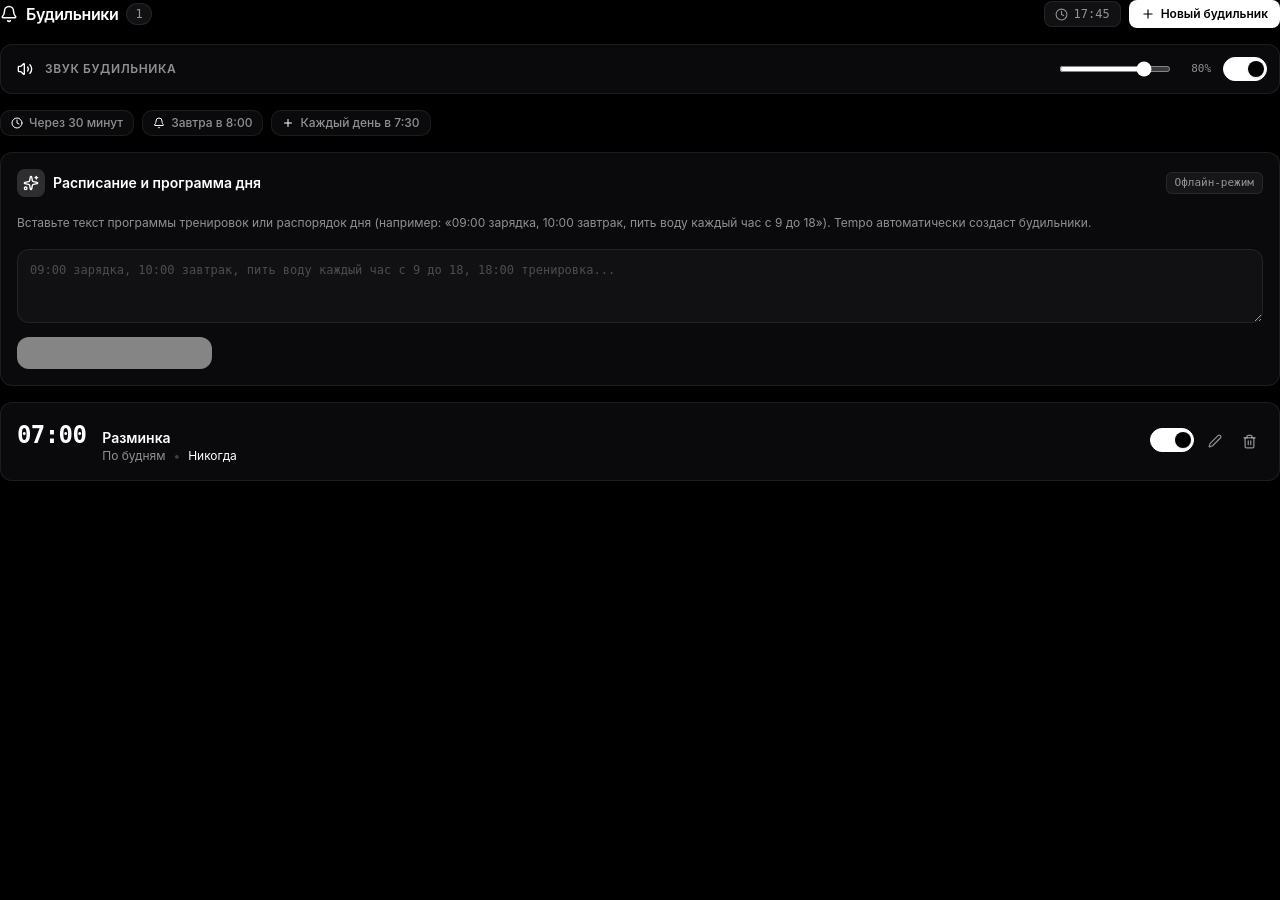
Test: an alarm that could never ring › cancels a description edit on Escape instead of saving it
Click the button named "Редактировать Разминка" at (1215, 441), box [1202,428,1228,454]
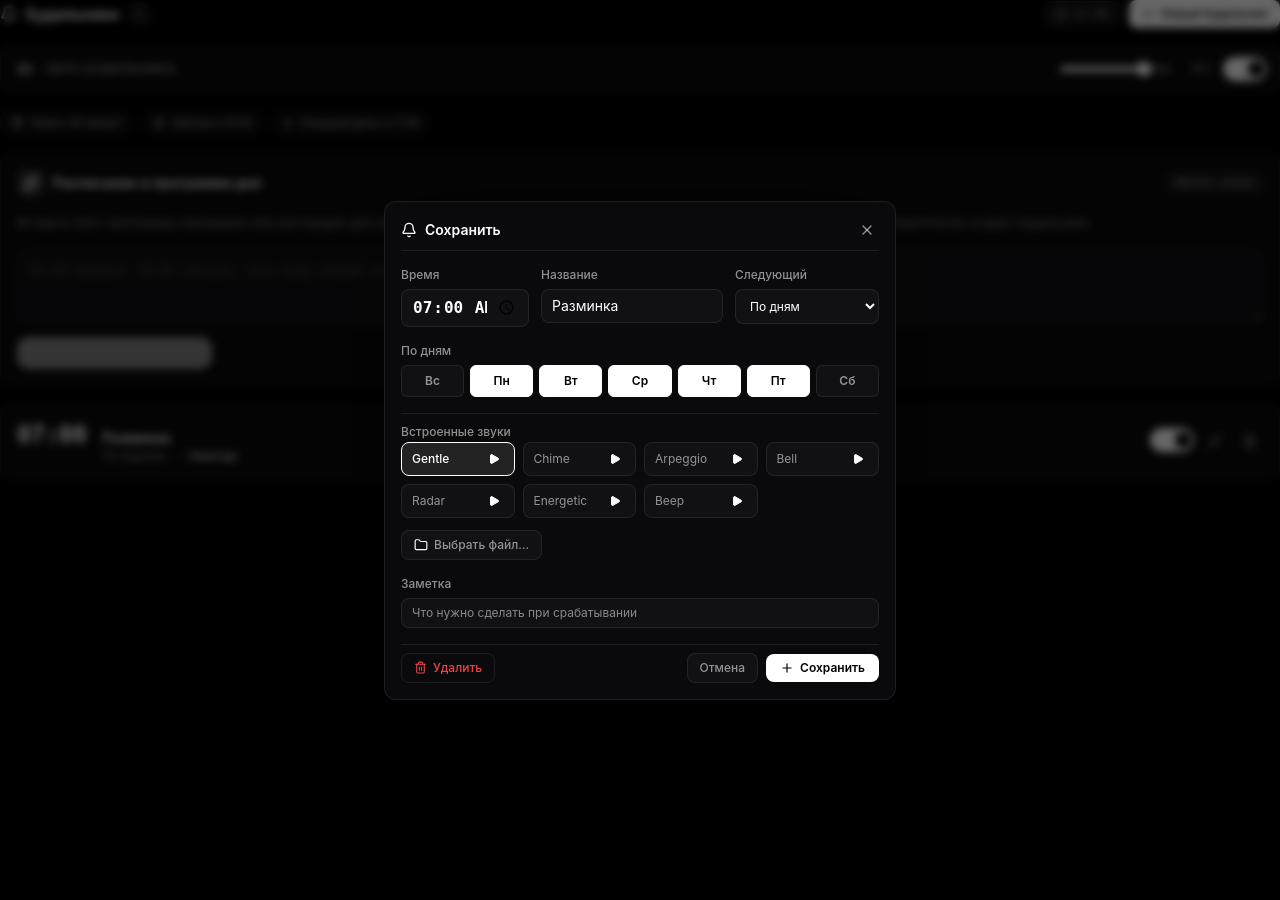
Type "Случайно набрано" into the field labelled "Заметка" at (640, 612), box [401,598,879,628]
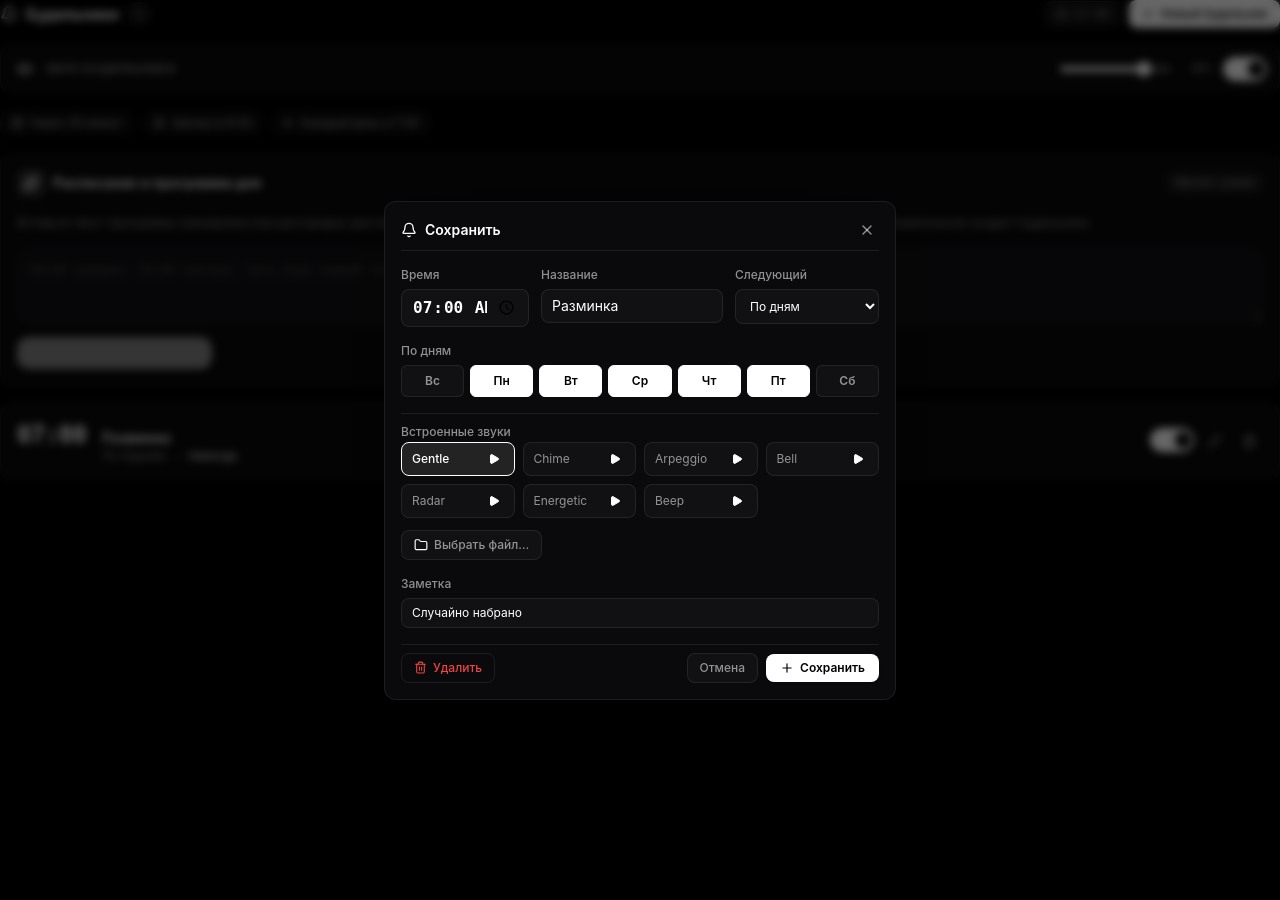
Press Escape
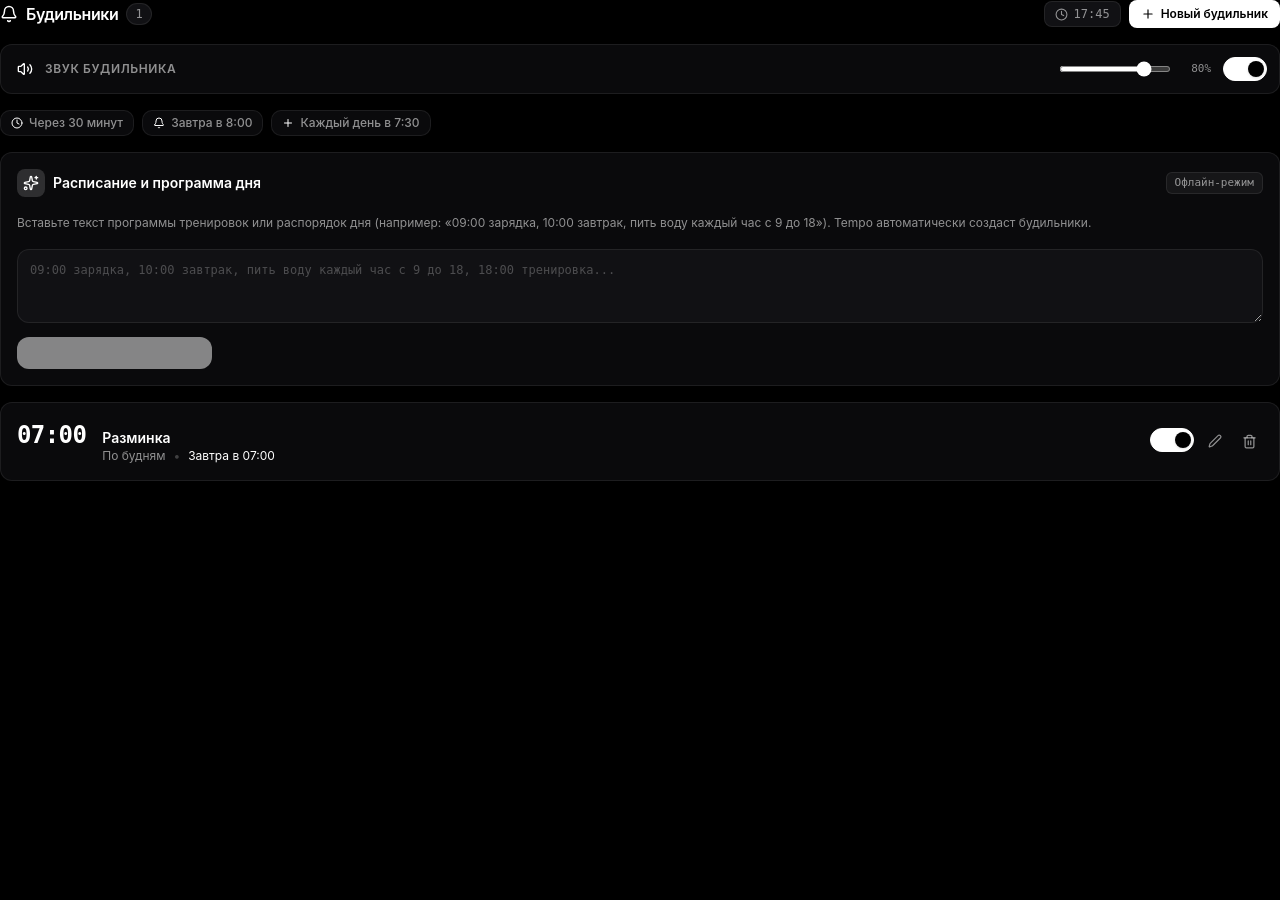
Check: the dialog with test id "alarm-editor-sheet" is gone
